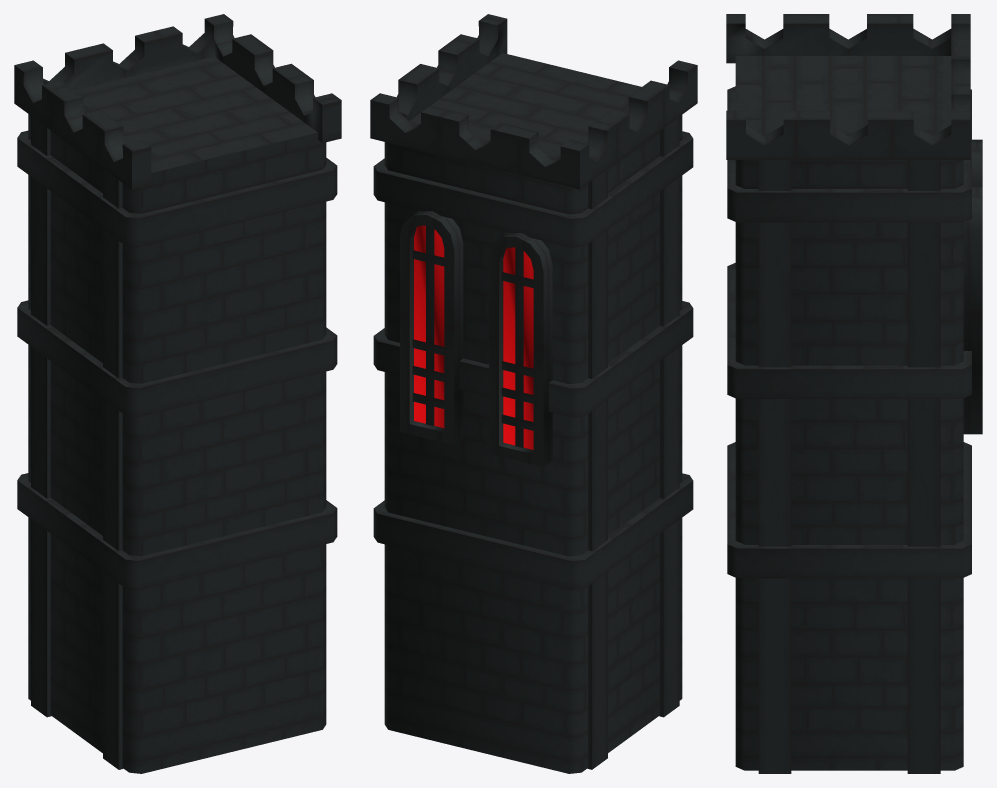
File: Coast Spire U.fbx
3 views of the same model, side by side, from view 1: azimuth 30°, elevation 25°; view 2: azimuth 150°, elevation 25°; view 3: azimuth 270°, elevation 25° (orthographic). The views are drawn at different scales.
Parts seen in each view (by area): view 1: Spire U; view 2: Spire U; view 3: Spire U.
Part boxes in pixels (bbox=[...]): Spire U: bbox=[14, 14, 341, 773]; Spire U: bbox=[370, 14, 697, 773]; Spire U: bbox=[726, 14, 982, 773].
Size of the model in its own units: 3351 by 9543 by 3386.
